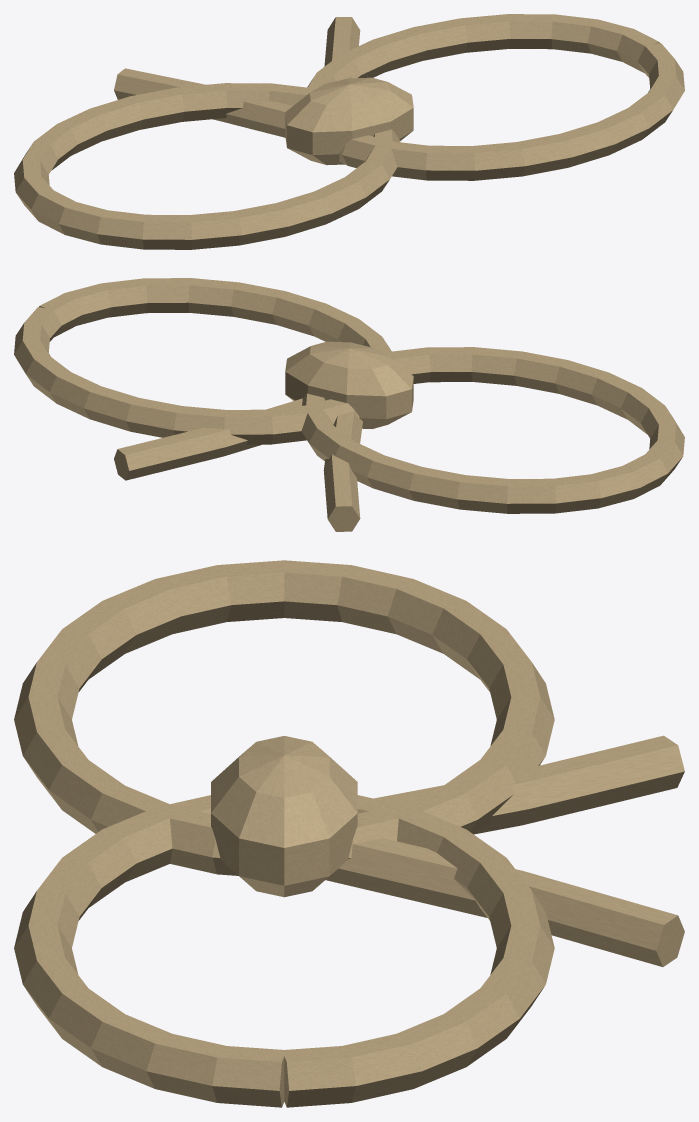
File: companion_cord.obj
3 views of the same model, one above another, from view 1: azimuth 30°, elevation 25°; view 2: azimuth 150°, elevation 25°; view 3: azimuth 270°, elevation 25° (orthographic). The views are drawn at different scales.
Parts seen in each view (by area): view 1: companion_cord; view 2: companion_cord; view 3: companion_cord.
Boxes of the visible parts, x1,y1,x2,y2 form: companion_cord: (14, 14, 684, 249); companion_cord: (14, 278, 684, 531); companion_cord: (14, 560, 684, 1107).
Size of the model in its own units: 6.3 by 0.7 by 3.47.
1 material, 1 textured.
